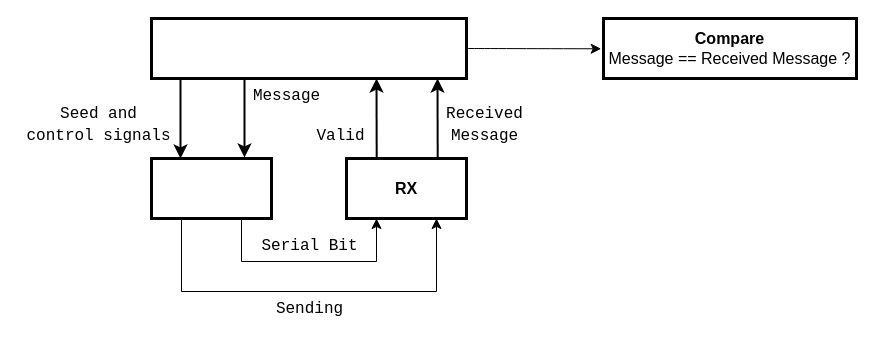
Image size: 875x342. Some labels were removed from this diagram. The shapes that lost their labels are listed below. From the top down, each one's centre as x and y in pixels, then its label:
(309,48): Driver/Monitor
(211,188): TX
